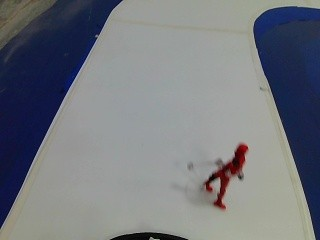pedestrian: (195, 132, 254, 213)
